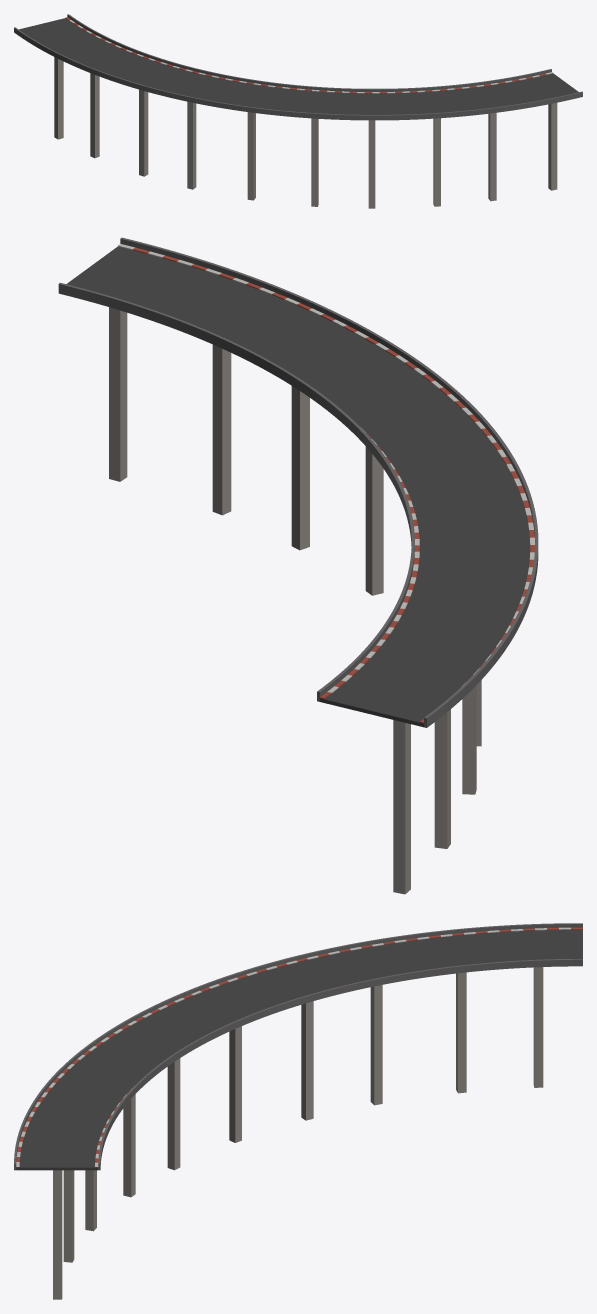
File: tp-elevated-corner.glb
3 views of the same model, one above another, from view 1: azimuth 30°, elevation 25°; view 2: azimuth 150°, elevation 25°; view 3: azimuth 270°, elevation 25° (orthographic). The views are drawn at different scales.
Parts seen in each view (by area): view 1: tp-elevated-corner; view 2: tp-elevated-corner; view 3: tp-elevated-corner.
Boxes of the visible parts, x1,y1,x2,y2 form: tp-elevated-corner: (14,14,582,208); tp-elevated-corner: (58,237,538,894); tp-elevated-corner: (14,923,582,1299).
Size of what is drawn, in the model's own units: 101 by 28.23 by 101.
1 material, 1 textured.
